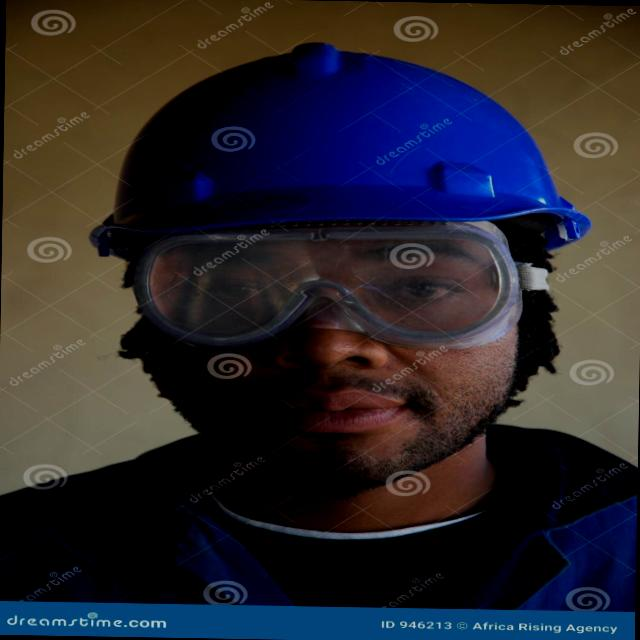goggles: (127, 214, 572, 351)
helmet: (99, 44, 584, 236)
